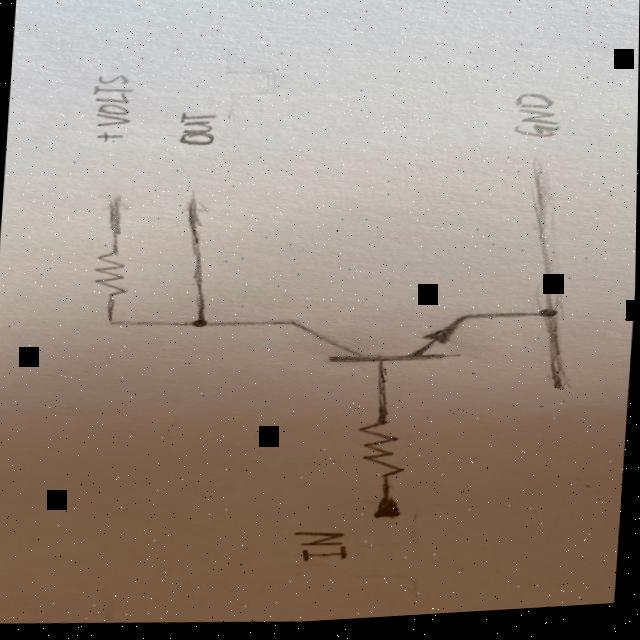junction: (523, 303, 572, 333), (180, 316, 218, 334), (101, 318, 122, 330)
resistor: (349, 419, 418, 487), (87, 241, 138, 309)
terminal: (366, 494, 409, 529), (180, 192, 207, 216), (523, 163, 552, 184), (95, 192, 127, 209), (546, 384, 577, 400)
text: (498, 95, 570, 152), (85, 72, 141, 131), (286, 529, 355, 570), (169, 111, 224, 153), (89, 130, 128, 146)
transistor: (272, 289, 481, 388)
